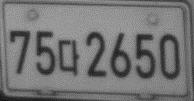0: (159, 33, 181, 80)
2: (85, 31, 107, 77)
5: (34, 29, 56, 77), (134, 32, 156, 79)
6: (108, 31, 132, 78)
7: (8, 29, 32, 76)
다: (57, 37, 80, 77)
